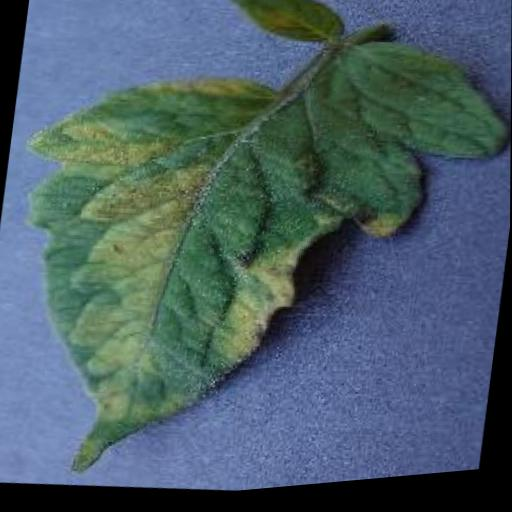Leaf Mold: (0, 1, 512, 512)
